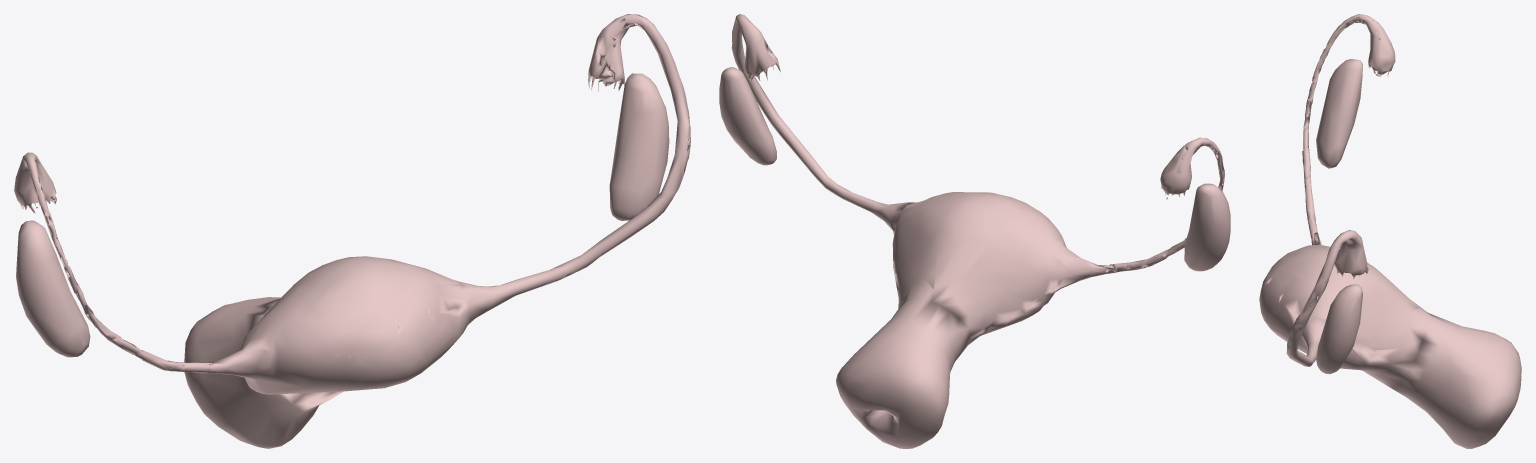
File: reference-uterus-lite.glb
3 renders of one model, left to right at view 1: azimuth 30°, elevation 25°; view 2: azimuth 150°, elevation 25°; view 3: azimuth 270°, elevation 25°, orthographic. The views are drawn at different scales.
Visible parts, largest first — view 1: uterus; view 2: uterus; view 3: uterus.
Boxes of the visible parts, box(x1,y1,x2,y2) form: uterus: box(14, 14, 690, 448); uterus: box(719, 14, 1230, 448); uterus: box(1259, 14, 1521, 448).
Bounding box in the file's own units: 0.1274 × 0.0791 × 0.0587.
